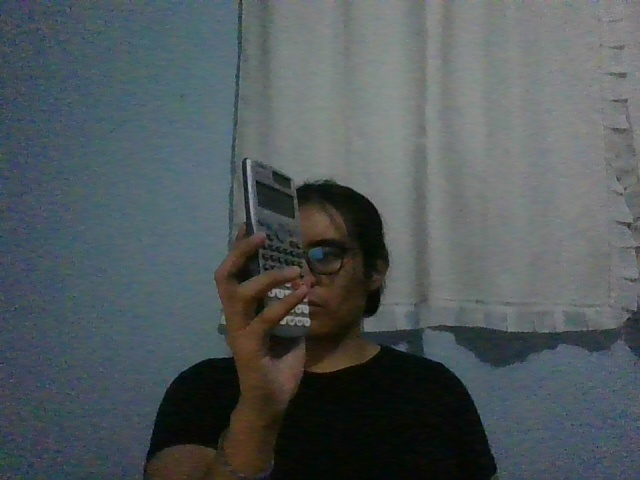calculadora: (240, 157, 311, 338)
